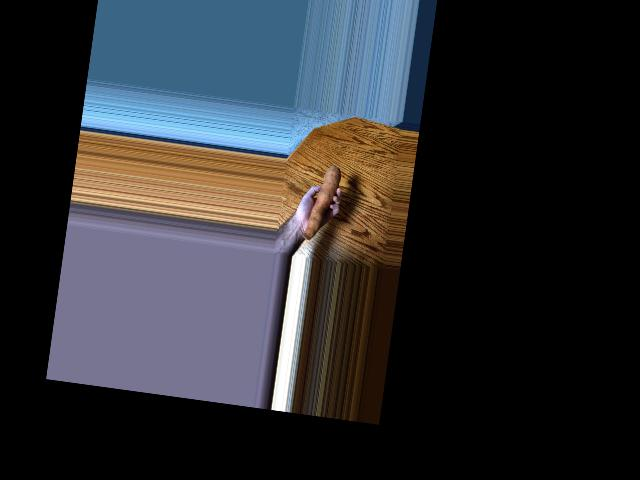sweet_potato: (305, 161, 343, 240)
